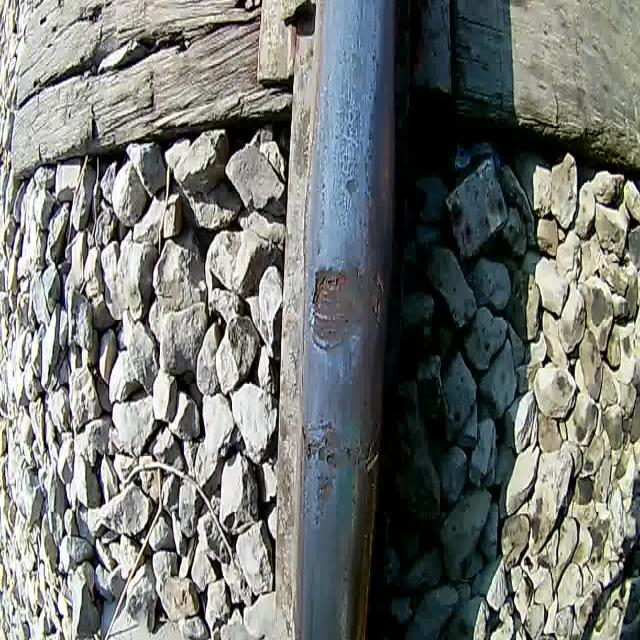Spallings: (310, 268, 349, 311), (371, 263, 388, 333)
Squats: (305, 256, 390, 364), (297, 410, 369, 530)
